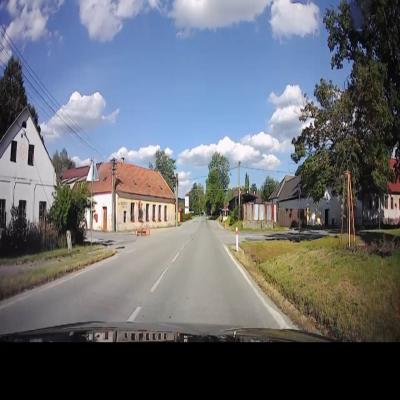clear-road: (0, 217, 281, 334)
